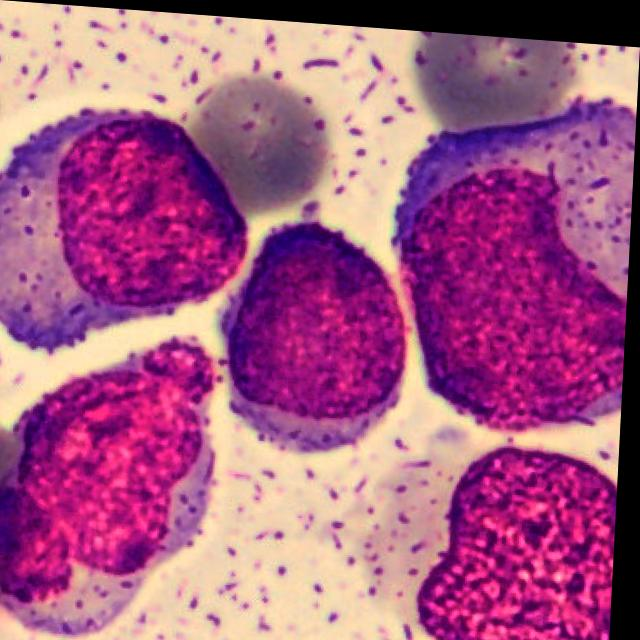Mieloblasto: (404, 89, 637, 424), (0, 320, 225, 633), (0, 107, 252, 350), (224, 211, 412, 446)
Restos celulares: (422, 436, 622, 640)
